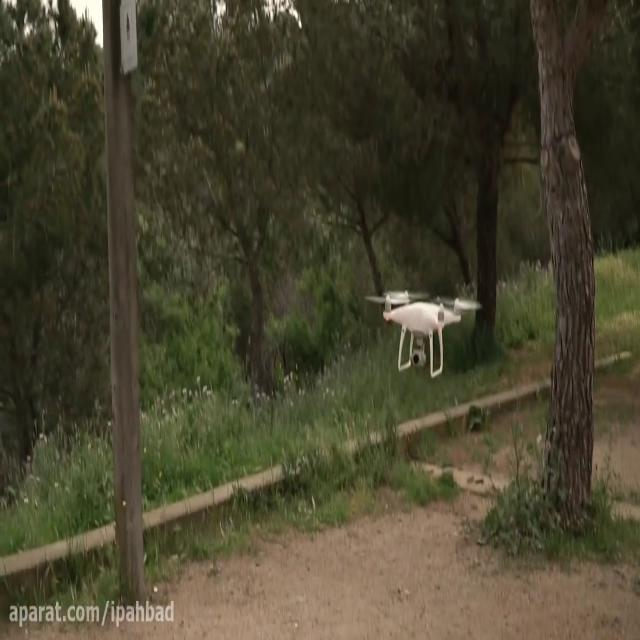drone: (365, 290, 483, 375)
